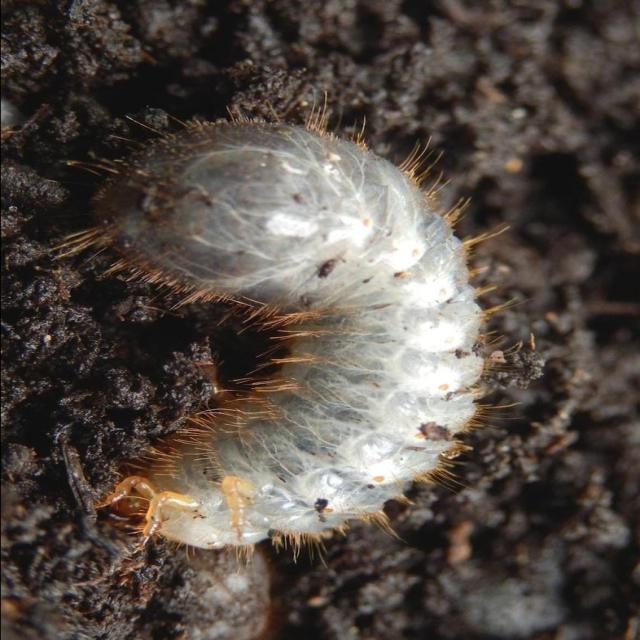grub: (95, 122, 511, 552)
